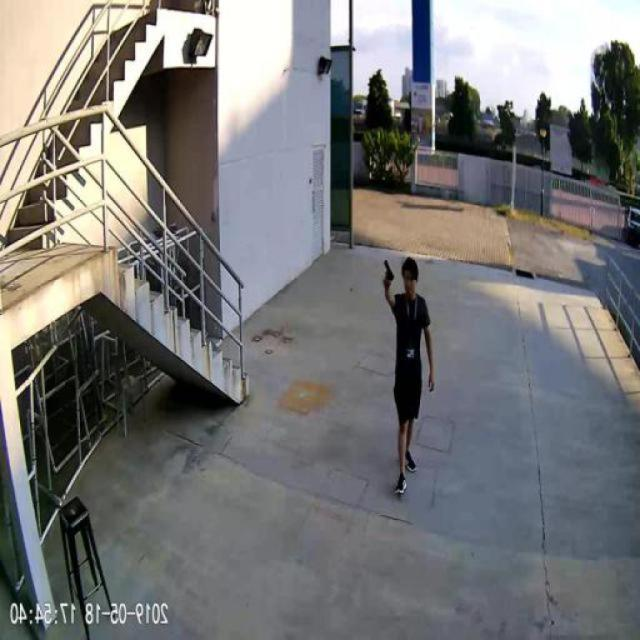pistol: (385, 258, 396, 278)
